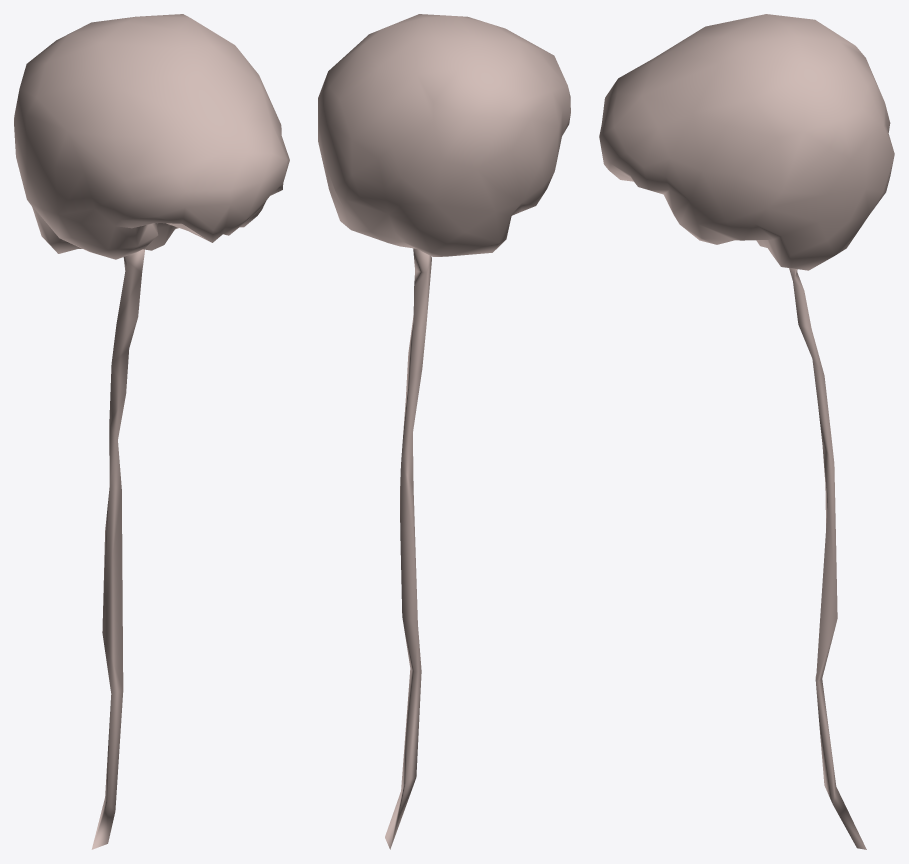
Rendered from pediatric_infant_female.nervous.LOD3.glb.
3 views of the same model, side by side, from view 1: azimuth 30°, elevation 25°; view 2: azimuth 150°, elevation 25°; view 3: azimuth 270°, elevation 25° (orthographic). The views are drawn at different scales.
Visible parts, largest first — view 1: PEDIATRIC.INFANT.FEMALE.NERVOUS.BRAIN, PEDIATRIC.INFANT.FEMALE.NERVOUS.SPINAL_CORD; view 2: PEDIATRIC.INFANT.FEMALE.NERVOUS.BRAIN, PEDIATRIC.INFANT.FEMALE.NERVOUS.SPINAL_CORD; view 3: PEDIATRIC.INFANT.FEMALE.NERVOUS.BRAIN, PEDIATRIC.INFANT.FEMALE.NERVOUS.SPINAL_CORD.
Part boxes in pixels (box(x1,y1,x2,y2)): PEDIATRIC.INFANT.FEMALE.NERVOUS.BRAIN: box(14, 14, 289, 259); PEDIATRIC.INFANT.FEMALE.NERVOUS.SPINAL_CORD: box(91, 249, 144, 849); PEDIATRIC.INFANT.FEMALE.NERVOUS.BRAIN: box(318, 14, 570, 256); PEDIATRIC.INFANT.FEMALE.NERVOUS.SPINAL_CORD: box(385, 248, 431, 849); PEDIATRIC.INFANT.FEMALE.NERVOUS.BRAIN: box(599, 14, 894, 270); PEDIATRIC.INFANT.FEMALE.NERVOUS.SPINAL_CORD: box(789, 268, 866, 849).
Bounding box in the file's own units: 0.1233 × 0.4378 × 0.1432.
